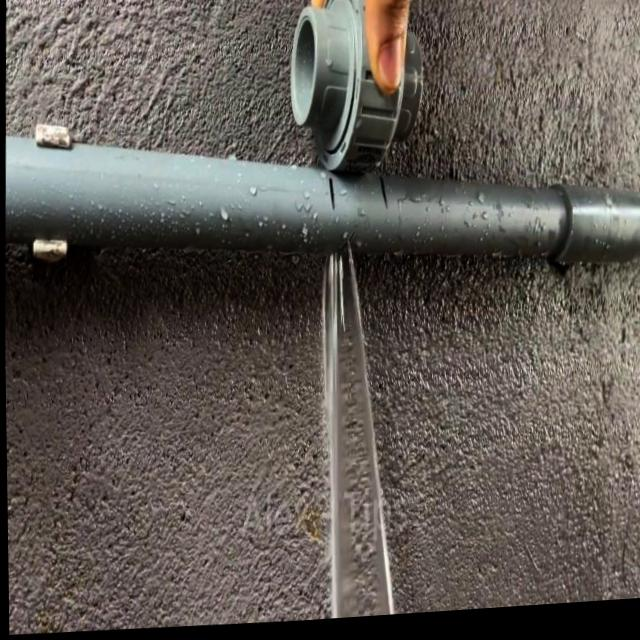leak: (305, 203, 428, 616)
